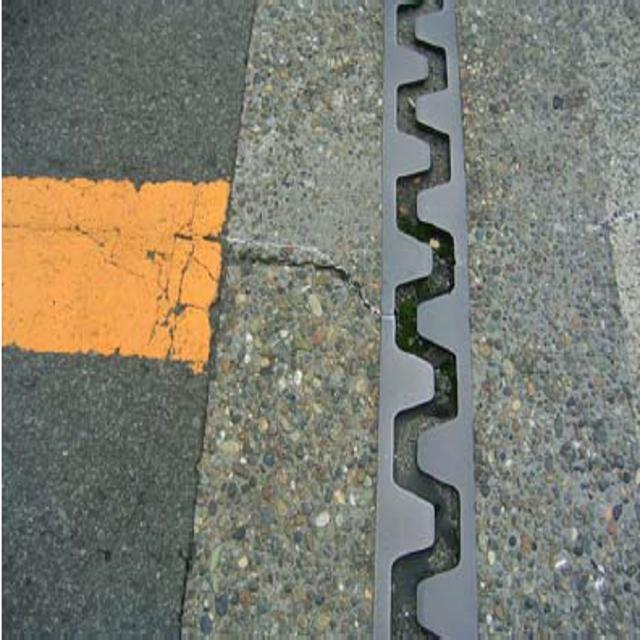crack: (224, 236, 379, 320)
